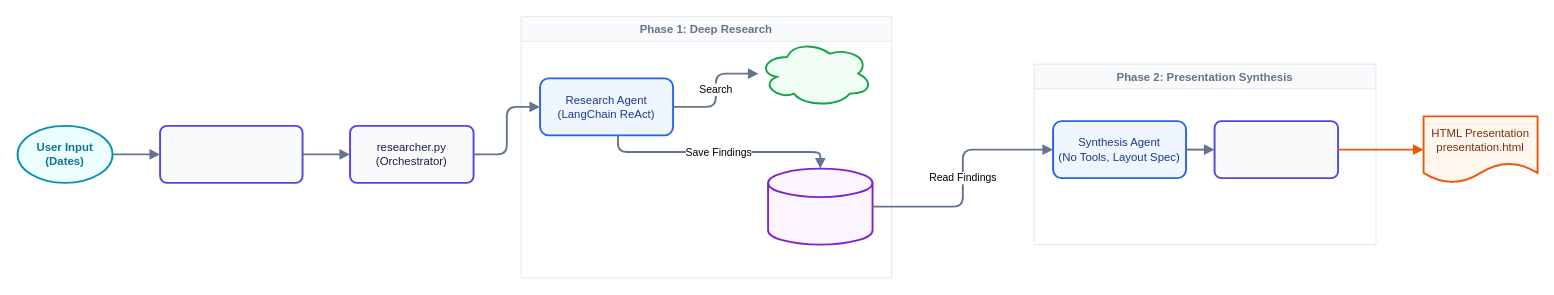
Some shapes in this 1554 by 295 pixel diagram are drawn without their labels. Here are the shapes that lost their labels. From the top down, the centre of each, then its label:
At (x=815, y=73): "Google Serper Search API".
At (x=231, y=153): "Jupyter Notebook ai_research_agent.ipynb".
At (x=1276, y=149): "presenter.py (HTML Builder)".
At (x=820, y=206): "Markdown Cache (data/research_results/)".
